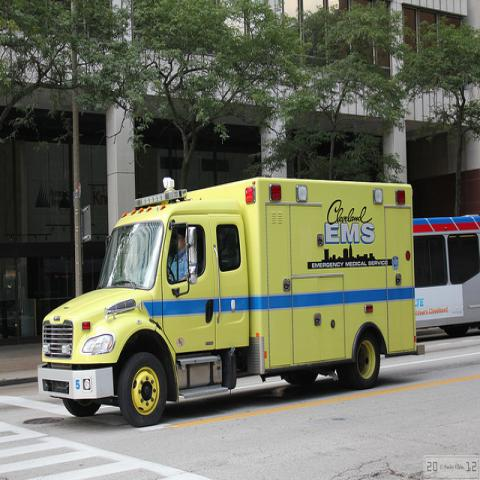bus: (412, 213, 480, 338)
truck: (37, 178, 427, 418)
